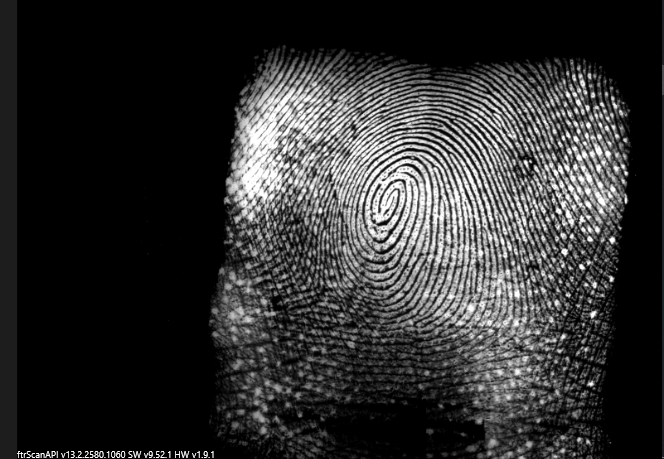nucelo: (367, 175, 407, 228)
verticilo: (513, 304, 551, 336), (273, 294, 307, 317)
